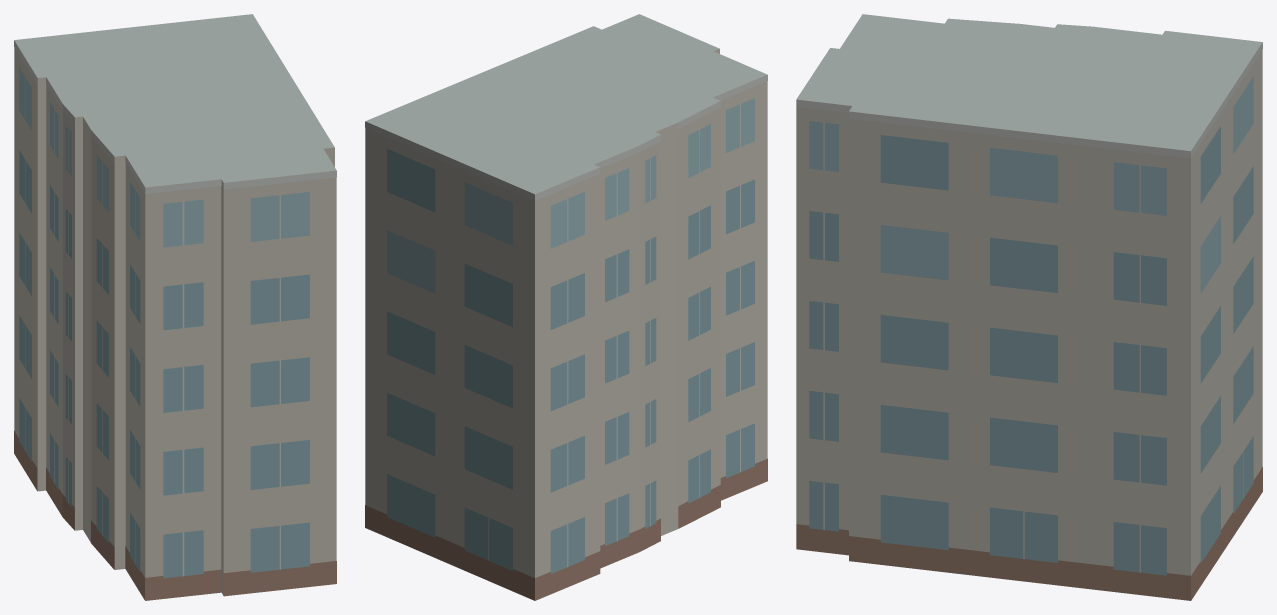
Rendered from survey-upis-32869016.glb.
3 views of the same model, side by side, from view 1: azimuth 30°, elevation 25°; view 2: azimuth 150°, elevation 25°; view 3: azimuth 270°, elevation 25° (orthographic). The views are drawn at different scales.
Parts seen in each view (by area): view 1: survey-upis-32869016.tmp; view 2: survey-upis-32869016.tmp; view 3: survey-upis-32869016.tmp.
Part boxes in pixels (x1=…): survey-upis-32869016.tmp: x1=14, y1=14, x2=336, y2=600; survey-upis-32869016.tmp: x1=365, y1=14, x2=767, y2=600; survey-upis-32869016.tmp: x1=796, y1=14, x2=1262, y2=600.
Bounding box in the file's own units: 9.95 × 15.2 × 14.3.
